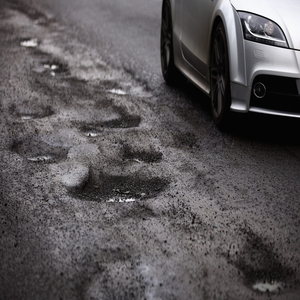pothole: (74, 169, 168, 208), (8, 136, 65, 166), (97, 112, 144, 130), (120, 148, 161, 164), (6, 108, 58, 119)
